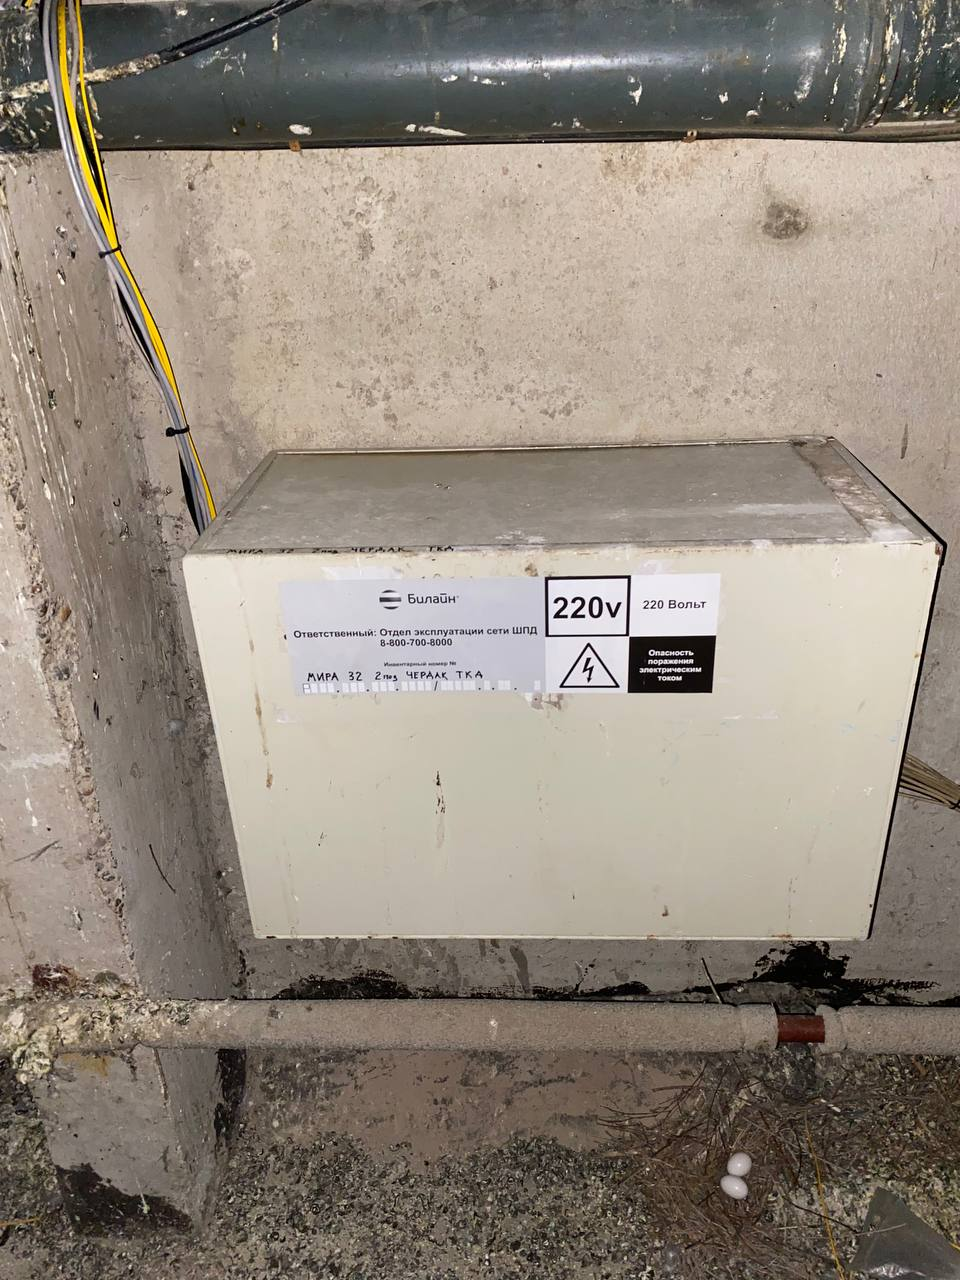sv-5: (168, 425, 952, 956)
